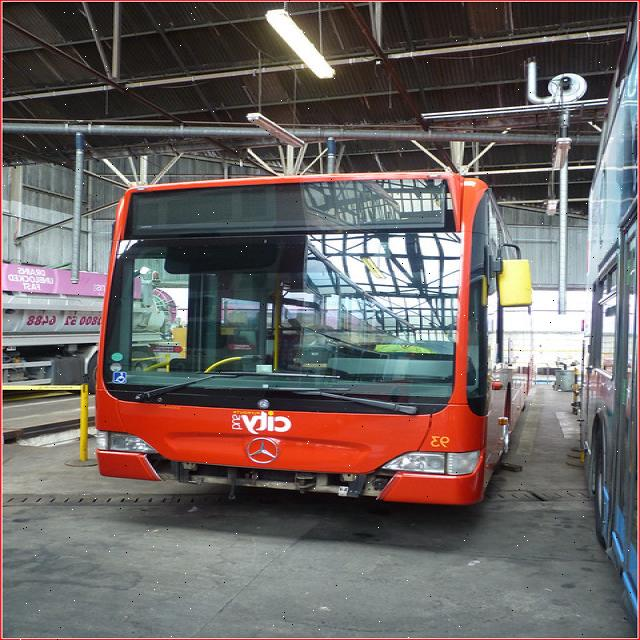Bus: (93, 174, 532, 499), (580, 6, 637, 610)
